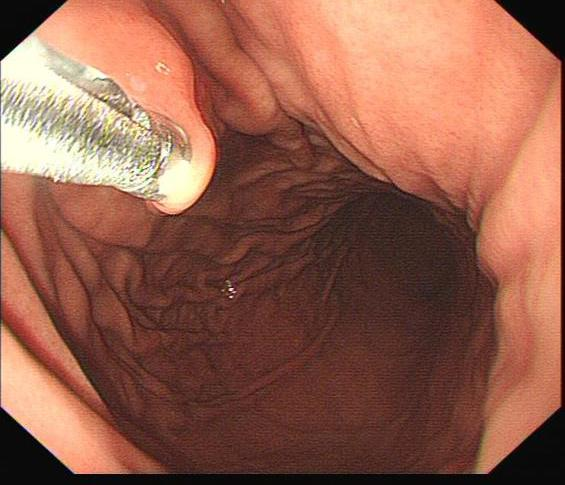Polyp: (139, 114, 239, 218)
